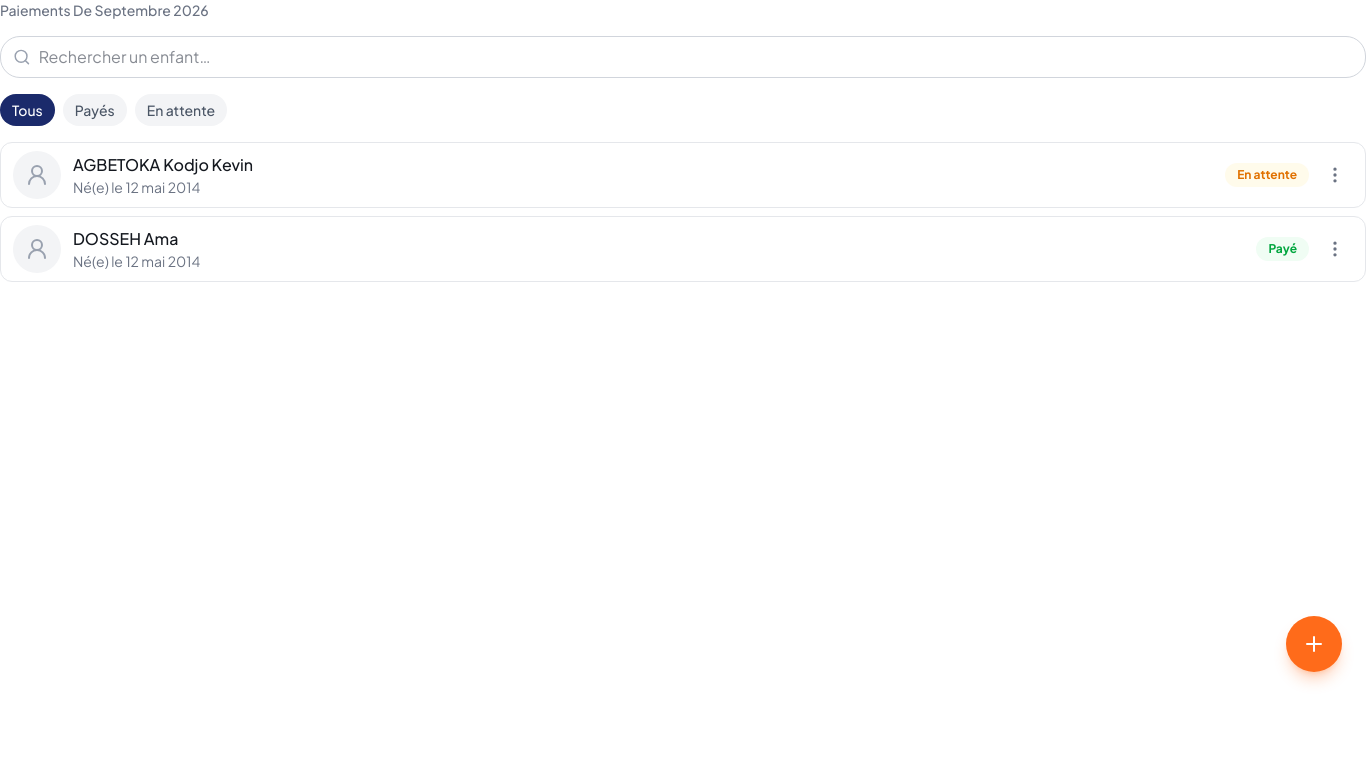
PlayerList › ouvre le menu d'un joueur puis affiche la confirmation de suppression
The image size is (1366, 768).
Click the button named "Actions" in the row of "AGBETOKA Kodjo Kevin".
click(1335, 175)  # box [1317,157,1353,193]
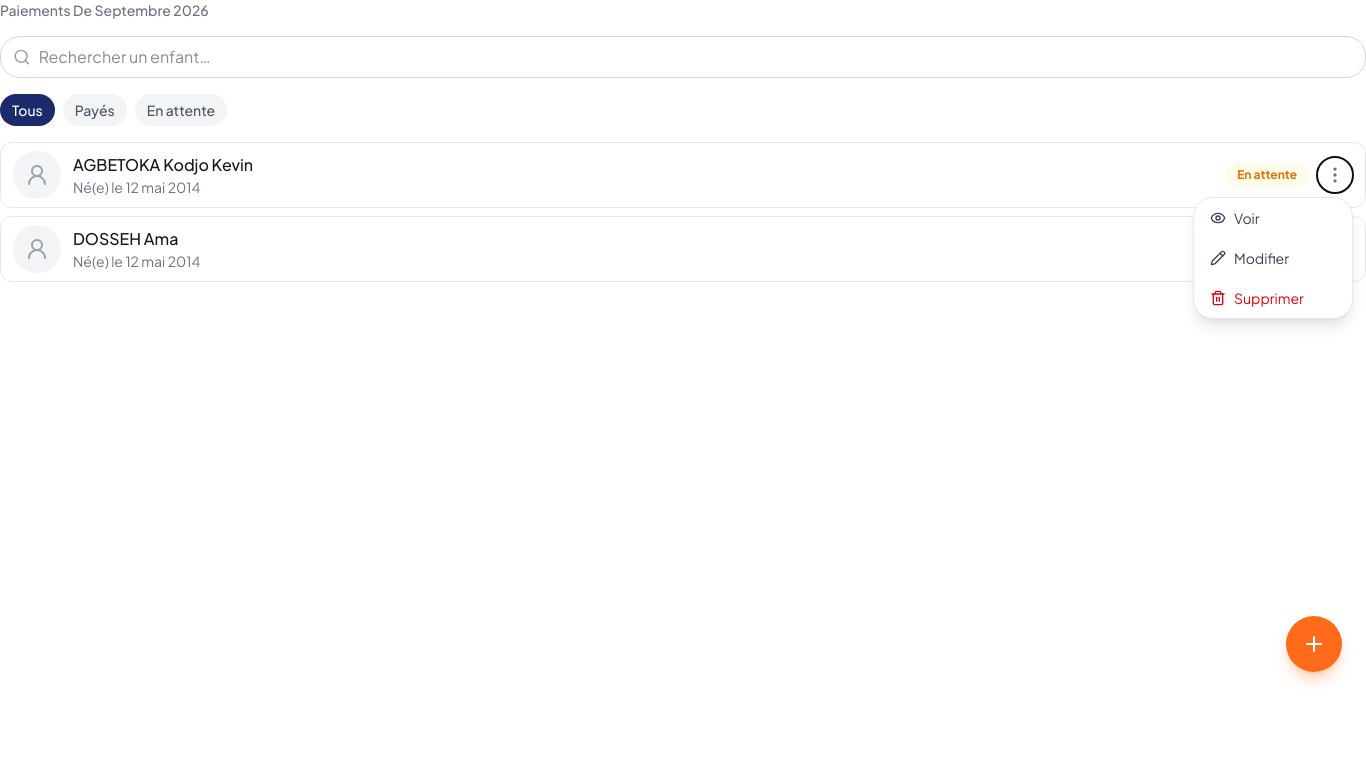
Click the menu item "Supprimer".
click(1273, 298)  # box [1194,278,1352,318]
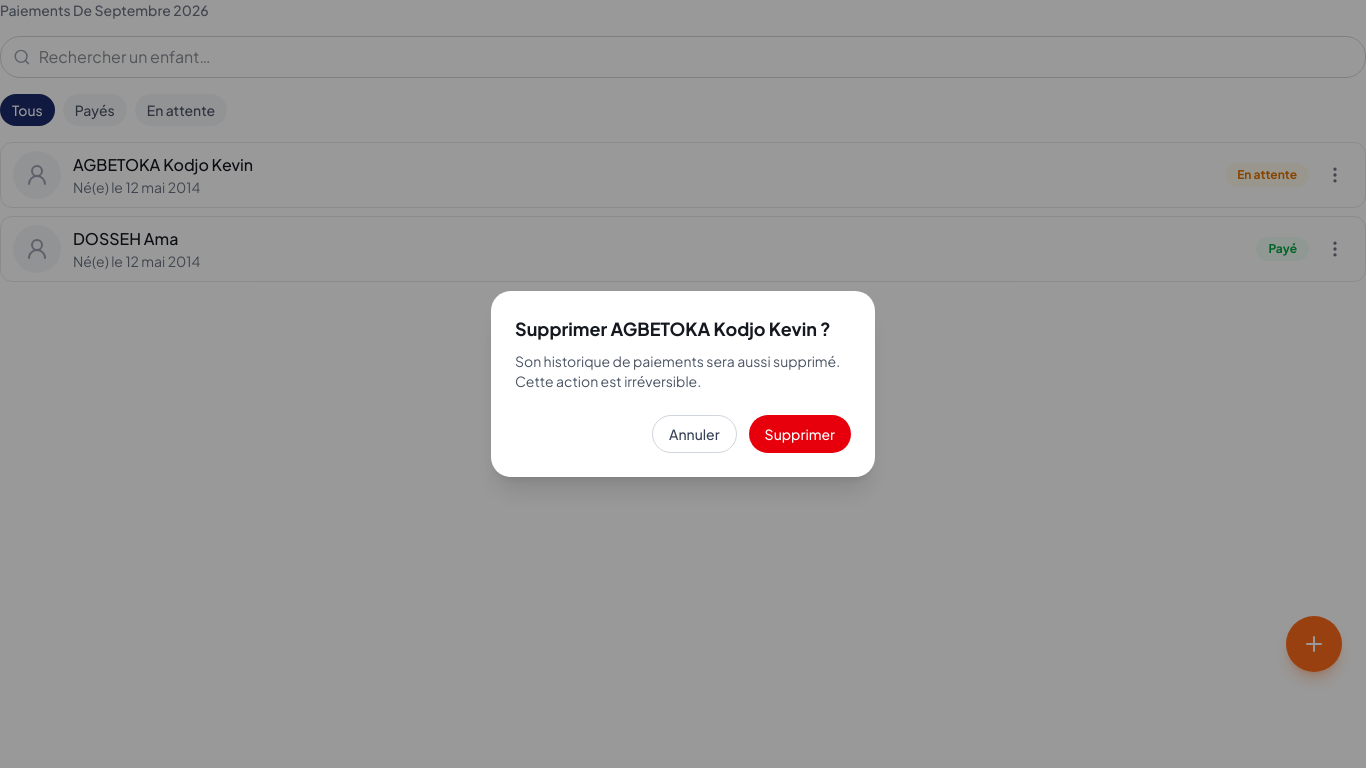
Check: the heading "Supprimer AGBETOKA Kodjo Kevin ?" is shown, box [515,315,851,343]
Check: the text "historique de paiements sera aussi supprimé" is shown, box [515,352,840,390]
